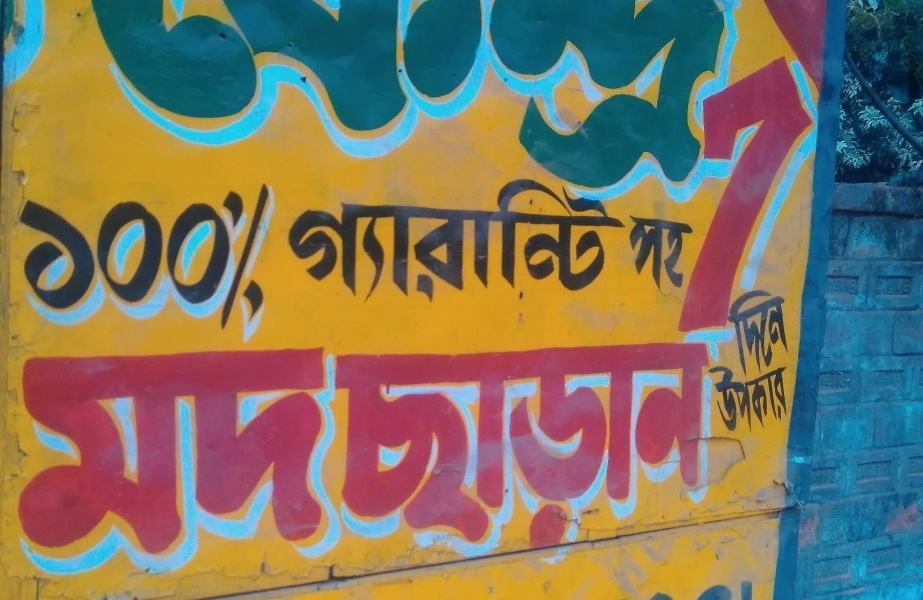text: (737, 57, 752, 337), (753, 57, 768, 337), (769, 57, 784, 337), (785, 57, 800, 337), (801, 57, 816, 337), (817, 57, 832, 337), (33, 341, 48, 594), (49, 341, 64, 594), (65, 341, 80, 594), (81, 341, 96, 594), (97, 341, 112, 594), (113, 341, 128, 594), (129, 341, 144, 594), (145, 341, 160, 594), (161, 341, 176, 594), (177, 341, 192, 594), (193, 341, 208, 594), (209, 341, 224, 594), (225, 341, 240, 594), (241, 341, 256, 594), (257, 341, 272, 594), (273, 341, 288, 594), (289, 341, 304, 594), (305, 341, 320, 594), (321, 341, 336, 594), (337, 344, 352, 594), (353, 344, 368, 594), (369, 344, 384, 594), (385, 344, 400, 594), (401, 344, 416, 594), (417, 344, 432, 594), (433, 344, 448, 594), (449, 344, 464, 594), (465, 344, 480, 594), (481, 344, 496, 594), (497, 344, 512, 594), (513, 344, 528, 594), (529, 344, 544, 594), (545, 344, 560, 594), (561, 344, 576, 594), (577, 344, 592, 594), (593, 344, 608, 594), (609, 344, 624, 594), (625, 344, 640, 594), (641, 344, 656, 594), (657, 344, 672, 594), (673, 344, 688, 594), (689, 344, 704, 594), (705, 344, 718, 594), (97, 1, 112, 209), (113, 1, 128, 209), (129, 1, 144, 209), (145, 1, 160, 209), (161, 1, 176, 209), (177, 1, 192, 209), (193, 1, 208, 209), (209, 1, 224, 209), (225, 1, 240, 209), (241, 1, 256, 209), (257, 1, 272, 209), (273, 1, 288, 209), (289, 1, 304, 209), (305, 1, 320, 209), (321, 1, 336, 209), (337, 1, 352, 209), (353, 1, 368, 209), (369, 1, 384, 209), (385, 1, 400, 209), (401, 1, 416, 209), (417, 1, 432, 209), (433, 1, 448, 209), (449, 1, 464, 209), (465, 1, 480, 209), (481, 1, 496, 209), (497, 1, 512, 209), (513, 1, 528, 209), (529, 1, 544, 209), (545, 1, 560, 209), (561, 1, 576, 209), (577, 1, 592, 209), (593, 1, 608, 209), (609, 1, 624, 209), (625, 1, 640, 209), (641, 1, 656, 209), (657, 1, 672, 209), (673, 1, 688, 209), (689, 1, 704, 209), (705, 1, 720, 209), (725, 57, 736, 337), (20, 341, 32, 594), (17, 175, 32, 345), (33, 175, 48, 345), (49, 175, 64, 345), (65, 175, 80, 345), (81, 175, 96, 345), (97, 175, 112, 345), (113, 175, 128, 345), (129, 175, 144, 345), (145, 175, 160, 345), (161, 175, 176, 345), (177, 175, 192, 345), (193, 175, 208, 345), (209, 175, 224, 345), (225, 175, 240, 345), (241, 175, 256, 345), (257, 175, 272, 345), (289, 162, 304, 302), (305, 162, 320, 302), (321, 162, 336, 302), (337, 162, 352, 302), (353, 162, 368, 302), (369, 162, 384, 302), (385, 162, 400, 302), (401, 162, 416, 302), (417, 162, 432, 302), (433, 162, 448, 302), (449, 162, 464, 302), (465, 162, 480, 302), (481, 162, 496, 302), (497, 162, 512, 302), (513, 162, 528, 302), (529, 162, 544, 302), (545, 162, 560, 302), (561, 162, 576, 302), (577, 162, 592, 302), (593, 162, 608, 302), (609, 162, 624, 302), (337, 341, 345, 594), (833, 57, 838, 337), (737, 282, 752, 373), (753, 282, 768, 373), (769, 282, 784, 373), (721, 348, 736, 437), (737, 348, 752, 437), (753, 348, 768, 437), (769, 348, 784, 437), (722, 282, 736, 373), (721, 1, 727, 209), (641, 215, 656, 297), (657, 215, 672, 297), (673, 215, 688, 297), (707, 348, 720, 437), (785, 282, 796, 373), (629, 215, 640, 297), (282, 162, 288, 302), (93, 1, 96, 209), (625, 162, 629, 302), (273, 175, 276, 345), (334, 344, 336, 594), (689, 215, 695, 297), (785, 348, 789, 437), (15, 175, 16, 345)
